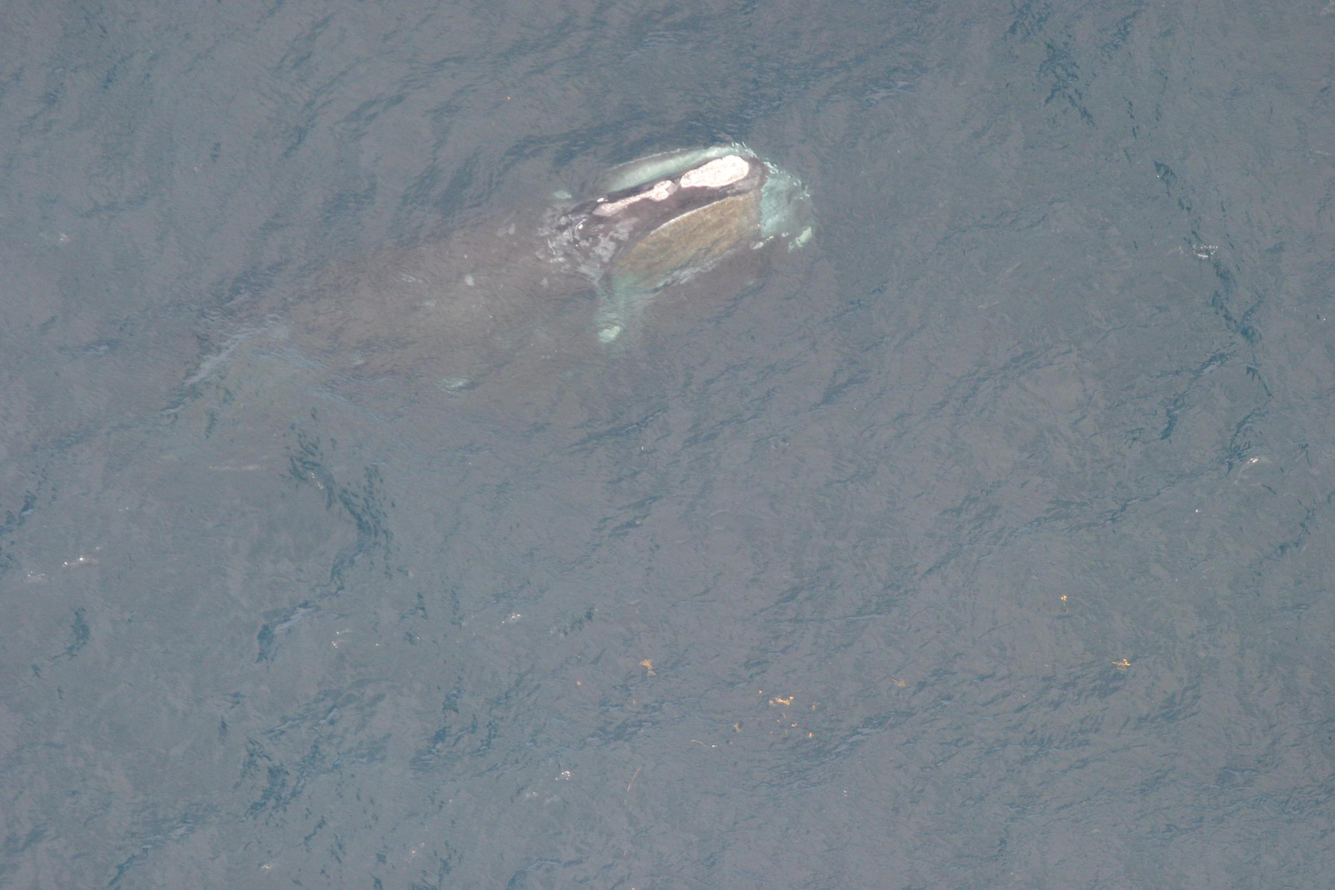whale: (161, 129, 836, 480)
